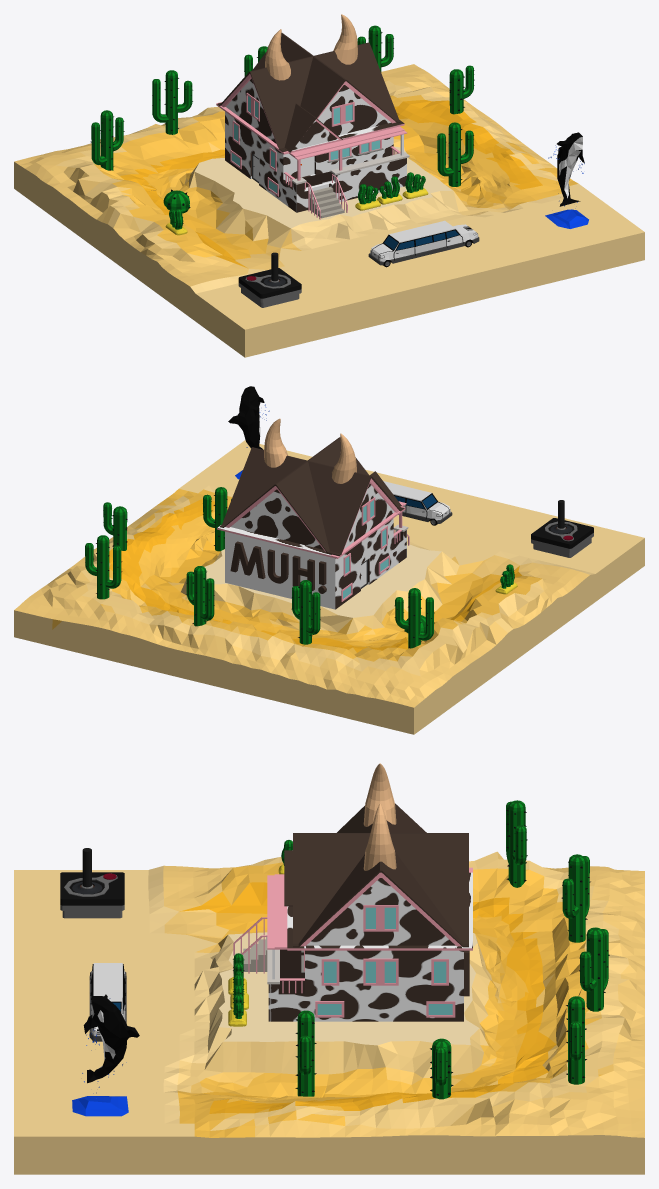
3 views of the same model, one above another, from view 1: azimuth 30°, elevation 25°; view 2: azimuth 150°, elevation 25°; view 3: azimuth 270°, elevation 25° (orthographic). The views are drawn at different scales.
Visible parts, largest first — view 1: Cube.001, Cube.1242, VEHICLES_LIMOUSINE, OBJRANDOM_JOYSTICK, ANIMAL_ORCA, Cylinder.044, Cylinder.037, Cylinder.045, Cylinder.038, Cylinder.042, Cylinder.039, Cylinder.041; view 2: Cube.001, Cube.1242, OBJRANDOM_JOYSTICK, VEHICLES_LIMOUSINE, Cylinder.042, Cylinder.045, Cylinder.044, Cylinder.043, ANIMAL_ORCA, Cylinder.037, Cylinder.038; view 3: Cube.001, Cube.1242, ANIMAL_ORCA, OBJRANDOM_JOYSTICK, Cylinder.044, Cylinder.043, VEHICLES_LIMOUSINE, Cylinder.045, Cylinder.037, Cylinder.042, Cylinder.038, Cylinder.041.
Boxes of the visible parts, x1,y1,x2,y2 form: Cube.001: (14,64,644,357); Cube.1242: (216,14,409,219); VEHICLES_LIMOUSINE: (368,220,479,267); OBJRANDOM_JOYSTICK: (238,252,301,307); ANIMAL_ORCA: (545,132,588,228); Cylinder.044: (152,70,192,134); Cylinder.037: (436,122,473,186); Cylinder.045: (90,110,124,170); Cylinder.038: (449,65,474,114); Cylinder.042: (357,25,393,72); Cylinder.039: (355,184,380,210); Cylinder.041: (402,172,428,198); Cube.001: (14,440,644,734); Cube.1242: (217,418,409,609); OBJRANDOM_JOYSTICK: (531,500,593,557); VEHICLES_LIMOUSINE: (383,481,452,525); Cylinder.042: (85,535,122,599); Cylinder.045: (394,588,434,648); Cylinder.044: (291,580,320,644); Cylinder.043: (186,566,214,626); ANIMAL_ORCA: (228,386,269,479); Cylinder.037: (203,487,231,551); Cylinder.038: (103,502,127,550); Cube.001: (14,851,644,1174); Cube.1242: (233,763,472,1021); ANIMAL_ORCA: (72,994,139,1116); OBJRANDOM_JOYSTICK: (60,848,124,918); Cylinder.044: (561,854,590,942); Cylinder.043: (579,927,609,1011); VEHICLES_LIMOUSINE: (89,963,126,1041); Cylinder.045: (506,800,527,887); Cylinder.037: (295,1010,316,1096); Cylinder.042: (566,996,586,1084); Cylinder.038: (430,1038,453,1099); Cylinder.041: (228,985,246,1026).
Size of the model in its own units: 4002 by 1886 by 4001.
42 materials, 2 textured.
